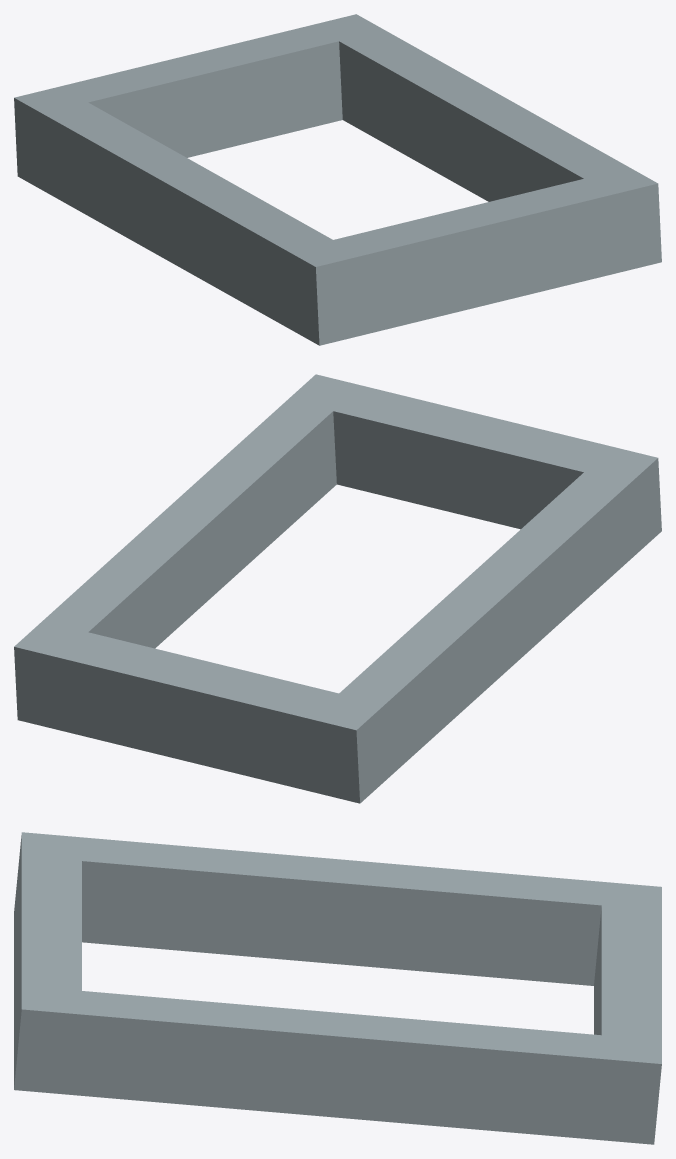
File: Headband 01.FBX
The picture shows the model from 3 angles, top to bottom: view 1: azimuth 30°, elevation 25°; view 2: azimuth 150°, elevation 25°; view 3: azimuth 270°, elevation 25°; orthographic projection. The views are drawn at different scales.
Parts seen in each view (by area): view 1: Headband 01; view 2: Headband 01; view 3: Headband 01.
Boxes of the visible parts, bbox=[...] form: Headband 01: bbox=[14, 14, 661, 345]; Headband 01: bbox=[14, 374, 661, 803]; Headband 01: bbox=[14, 832, 661, 1144].
Size of the model in its own units: 19.55 by 6.96 by 30.2.
